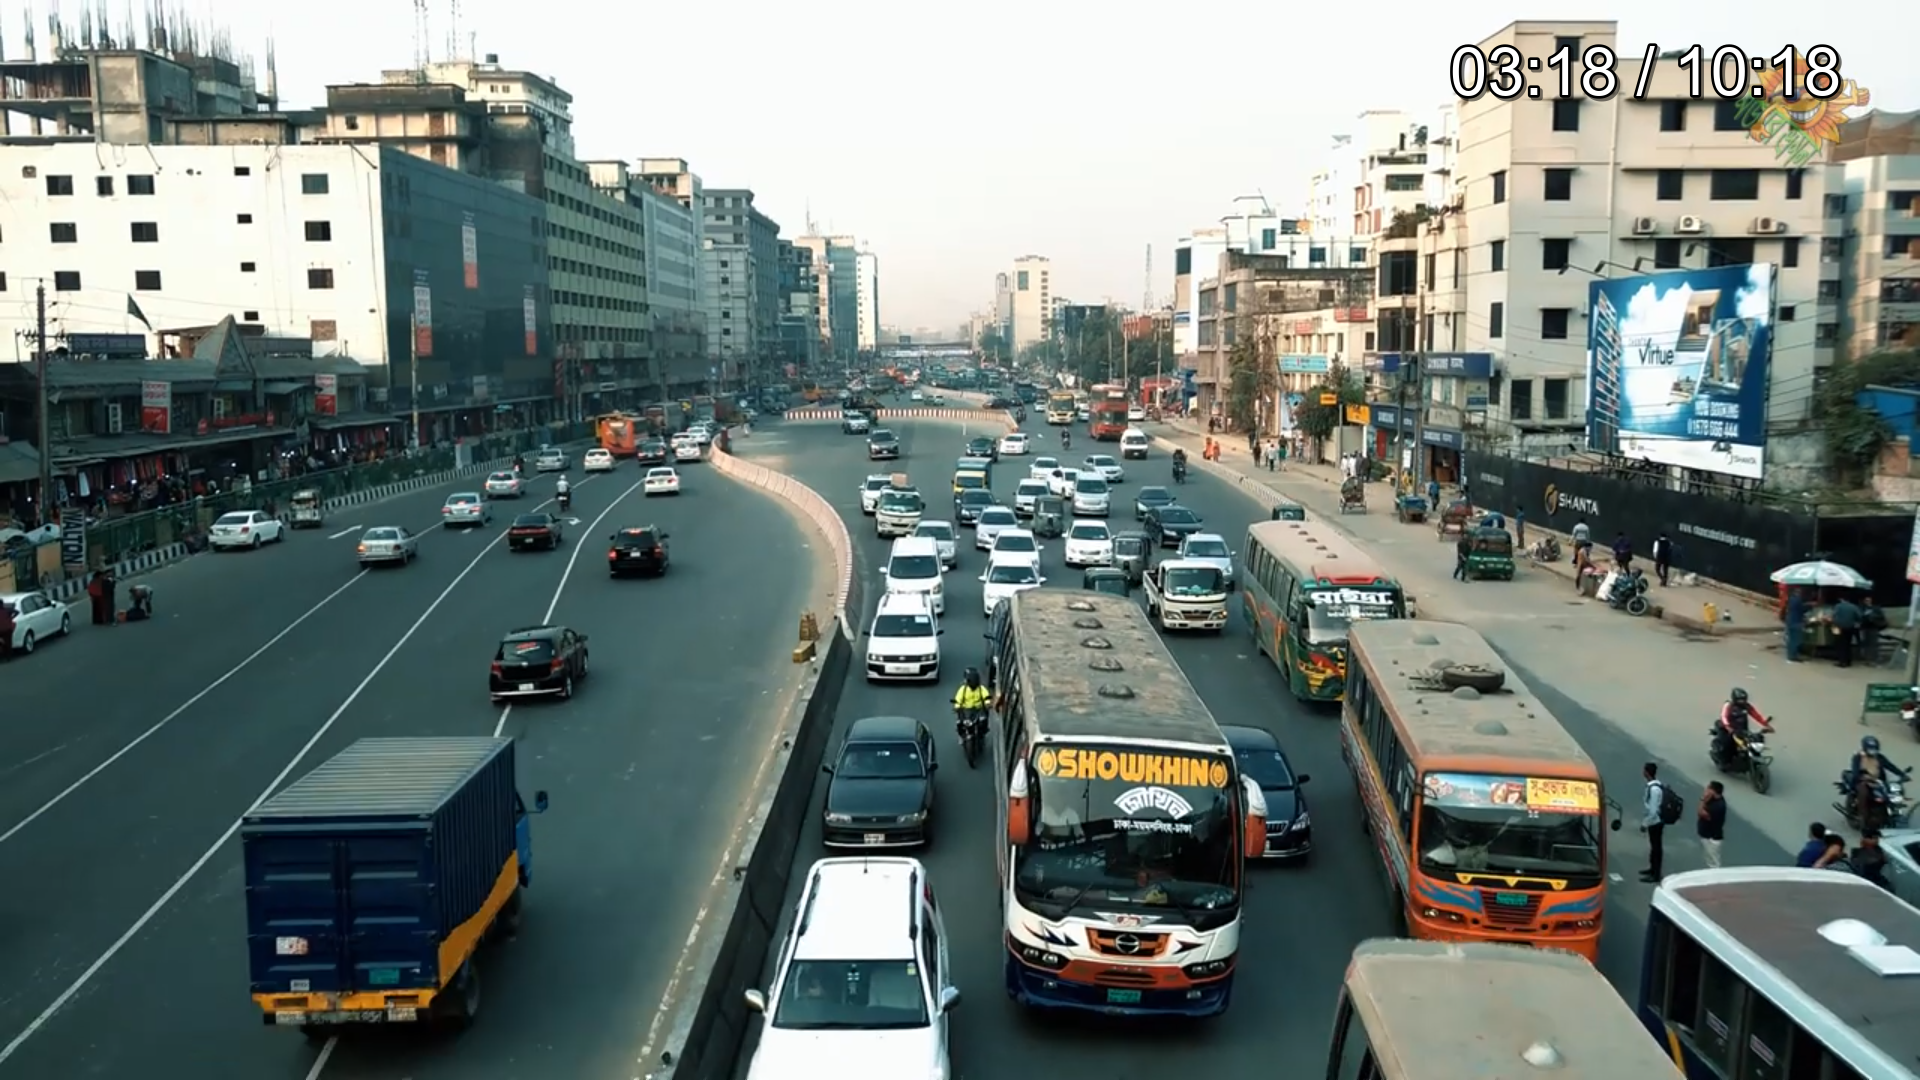HeavyVehicle: (239, 716, 554, 1073), (1002, 583, 1244, 1047), (1337, 608, 1611, 951)
MotorCycle: (1706, 680, 1778, 796), (1841, 728, 1905, 837), (953, 662, 985, 781)
